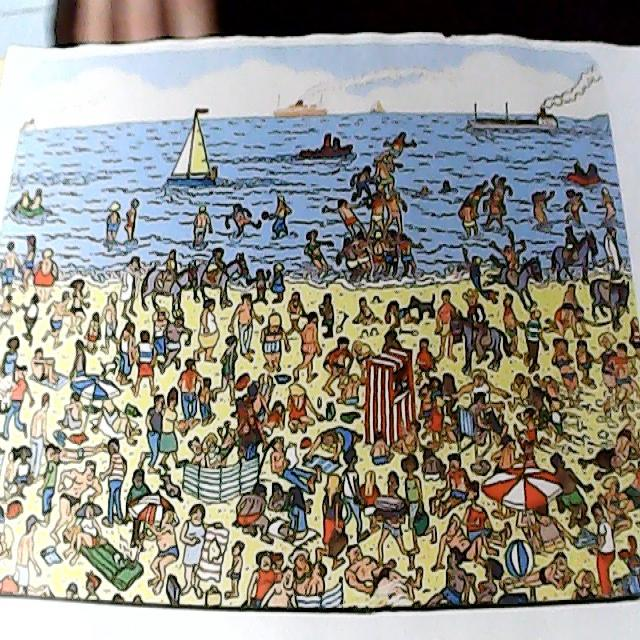waldo: (242, 395, 257, 418)
